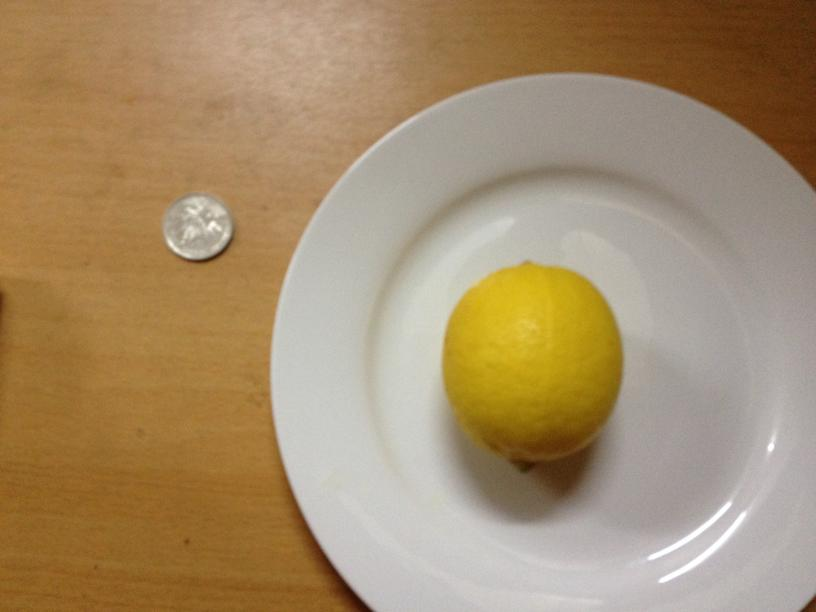coin: (160, 192, 233, 261)
lemon: (442, 261, 625, 459)
